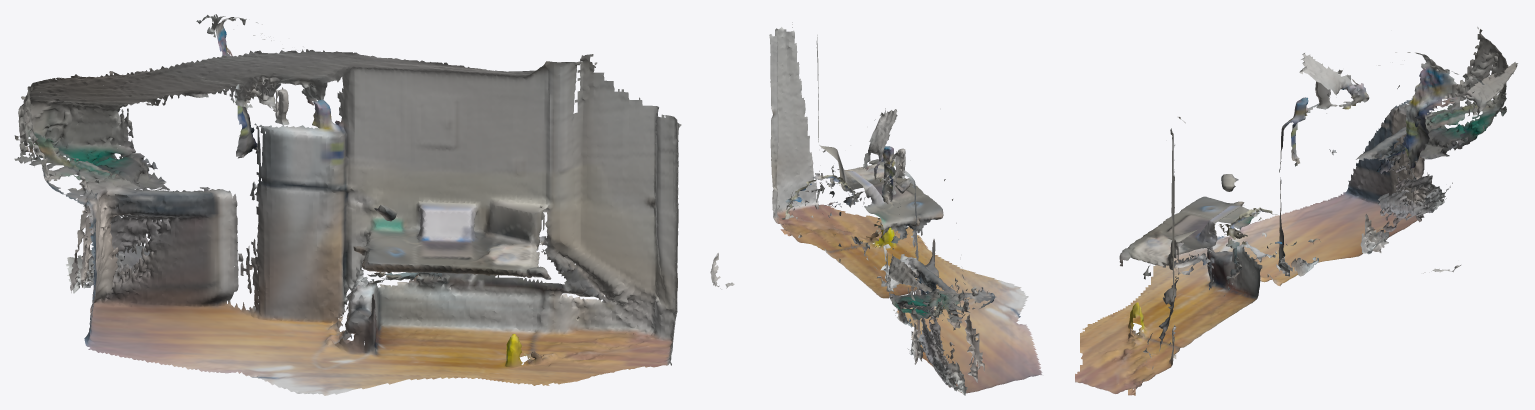
The model's file is scan-4ea98e0050ef.glb.
The picture shows the model from 3 angles, left to right: view 1: azimuth 30°, elevation 25°; view 2: azimuth 150°, elevation 25°; view 3: azimuth 270°, elevation 25°; orthographic projection. The views are drawn at different scales.
Size of the model in its own units: 3.64 by 2.3 by 3.54.
